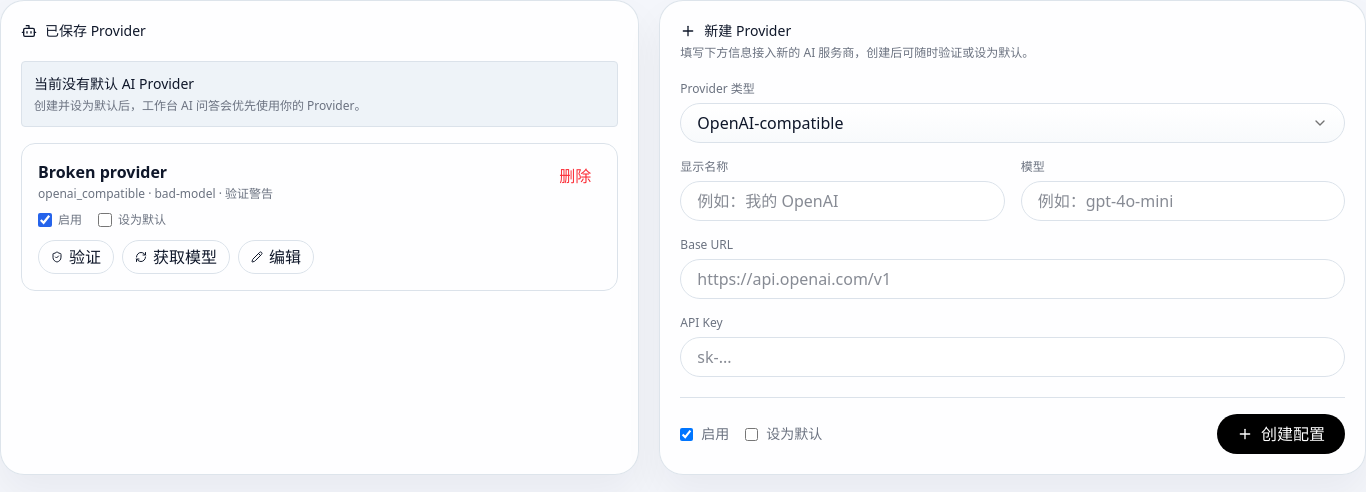
AI settings interactions › shows provider validation failures as errors
This screenshot has width=1366, height=492.
Click the button "验证": click(76, 257) [38, 240, 114, 274]
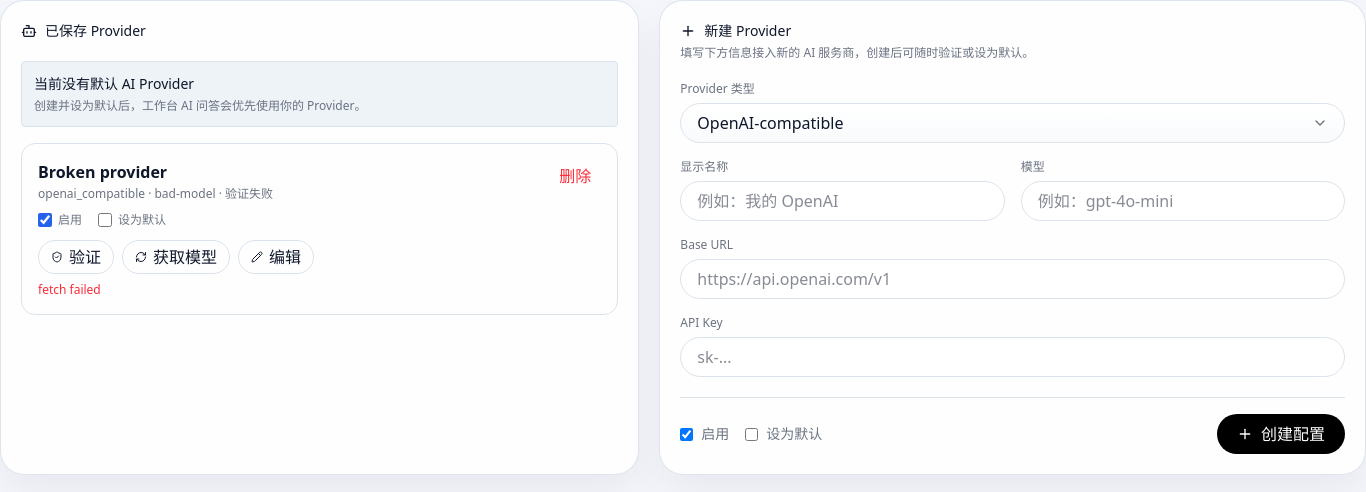
Result: the text "fetch failed" is shown at [38, 281, 101, 298]
